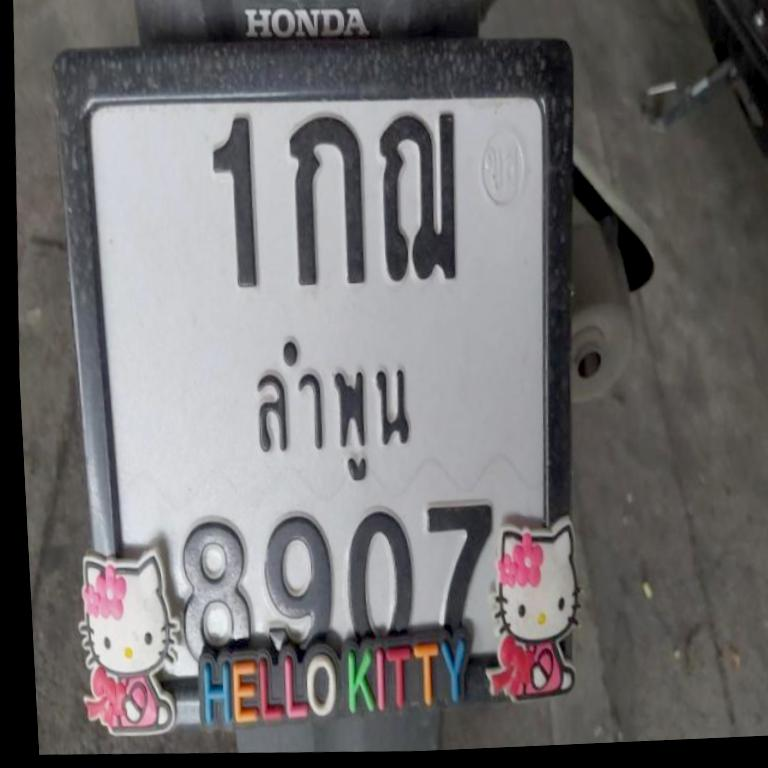license plate: (19, 12, 618, 740)
